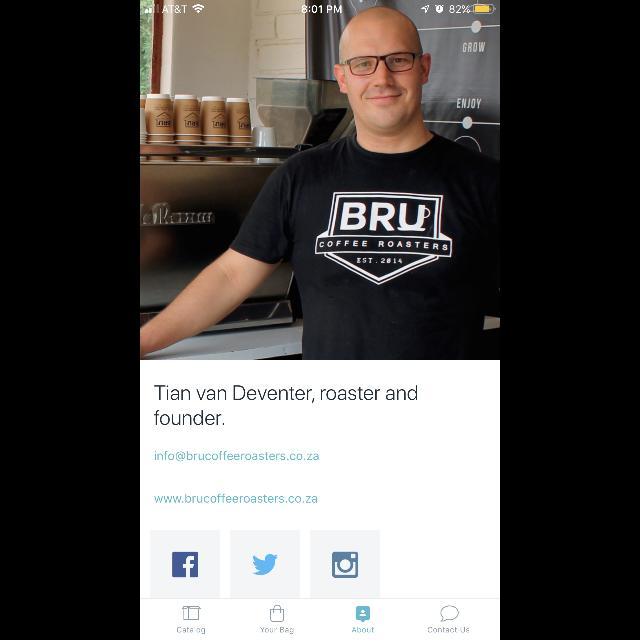icon: (173, 551, 199, 577), (332, 552, 358, 578), (253, 554, 279, 576), (440, 605, 458, 621), (270, 604, 284, 622), (356, 606, 370, 622)
image: (140, 14, 500, 360), (182, 606, 202, 620)
text: (154, 385, 418, 425), (155, 451, 319, 462), (154, 493, 318, 502), (260, 626, 294, 634), (428, 627, 470, 633), (177, 626, 205, 634), (352, 627, 374, 633)
uppertaskbar: (140, 0, 500, 14)
